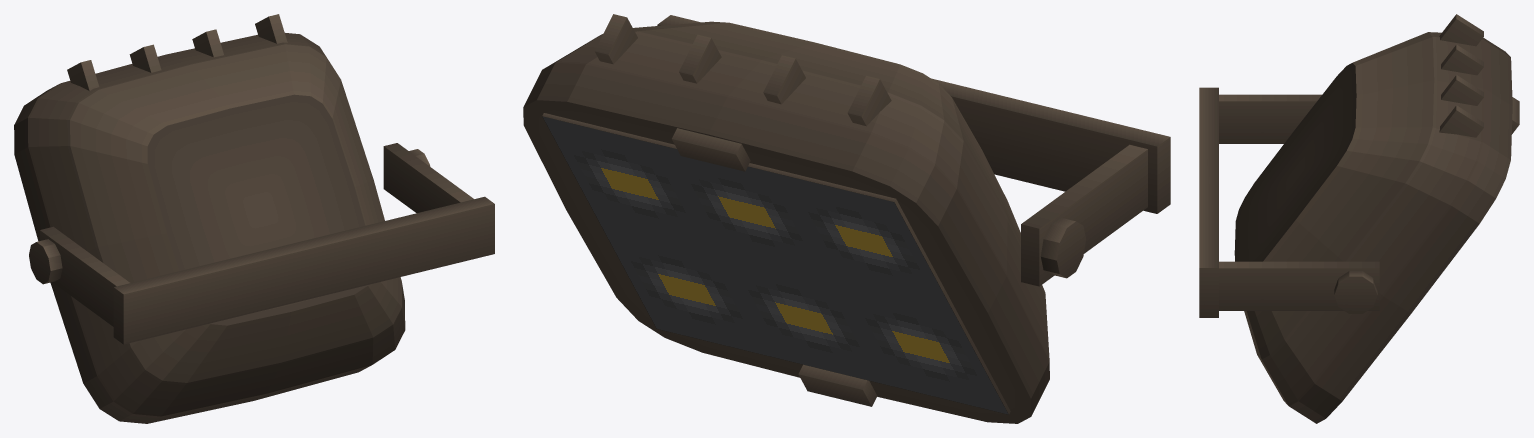
File: floodlight_lithtflyk.obj
3 views of the same model, side by side, from view 1: azimuth 30°, elevation 25°; view 2: azimuth 150°, elevation 25°; view 3: azimuth 270°, elevation 25° (orthographic). The views are drawn at different scales.
Visible parts, largest first — view 1: fixture; view 2: fixture; view 3: fixture.
Part boxes in pixels (x1,y1,x2,y2): fixture: [14, 14, 494, 423]; fixture: [523, 14, 1170, 423]; fixture: [1199, 14, 1519, 423].
Size of the model in its own units: 0.6964 by 0.545 by 0.509.
